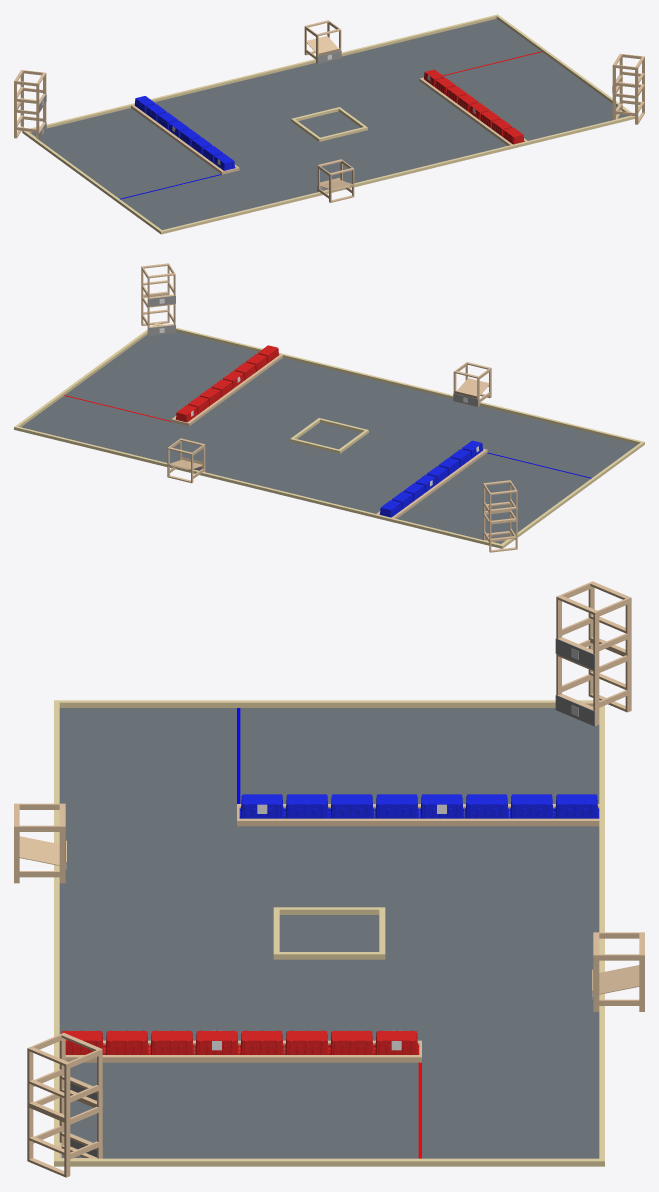
3 views of the same model, one above another, from view 1: azimuth 30°, elevation 25°; view 2: azimuth 150°, elevation 25°; view 3: azimuth 270°, elevation 25° (orthographic). The views are drawn at different scales.
Visible parts, largest first — view 1: Field Carpet, Field Perimeter Barrier, Yard Barrier, Blue Hedge Barrier, Red Hedge Barrier, Part 8, Part 6; view 2: Field Carpet, Field Perimeter Barrier, Yard Barrier, Red Hedge Barrier, Blue Hedge Barrier, Part 8; view 3: Field Carpet, Field Perimeter Barrier, Part 6 (×4), Blue Hedge Barrier, Part 1 (×3), Red Hedge Barrier, Yard Barrier, Part 8 (×2).
Boxes of the visible parts, bbox=[...] form: Field Carpet: bbox=[31, 18, 627, 230]; Field Perimeter Barrier: bbox=[22, 14, 634, 234]; Yard Barrier: bbox=[291, 107, 367, 141]; Blue Hedge Barrier: bbox=[131, 104, 239, 174]; Red Hedge Barrier: bbox=[419, 77, 527, 145]; Part 8: bbox=[307, 36, 340, 55]; Part 6: bbox=[329, 167, 354, 202]; Field Carpet: bbox=[21, 332, 637, 543]; Field Perimeter Barrier: bbox=[14, 323, 644, 548]; Yard Barrier: bbox=[290, 418, 368, 453]; Red Hedge Barrier: bbox=[171, 354, 282, 426]; Blue Hedge Barrier: bbox=[376, 448, 487, 518]; Part 8: bbox=[454, 378, 488, 398]; Field Carpet: bbox=[59, 708, 599, 1158]; Field Perimeter Barrier: bbox=[54, 700, 604, 1166]; Part 6 (×4): bbox=[27, 581, 631, 1177]; Blue Hedge Barrier: bbox=[237, 804, 599, 826]; Part 1 (×3): bbox=[59, 595, 599, 1107]; Red Hedge Barrier: bbox=[65, 1040, 421, 1062]; Yard Barrier: bbox=[273, 907, 385, 959]; Part 8 (×2): bbox=[19, 836, 639, 994].
Bounding box in the file's own units: 17.45 × 1.91 × 9.63.
